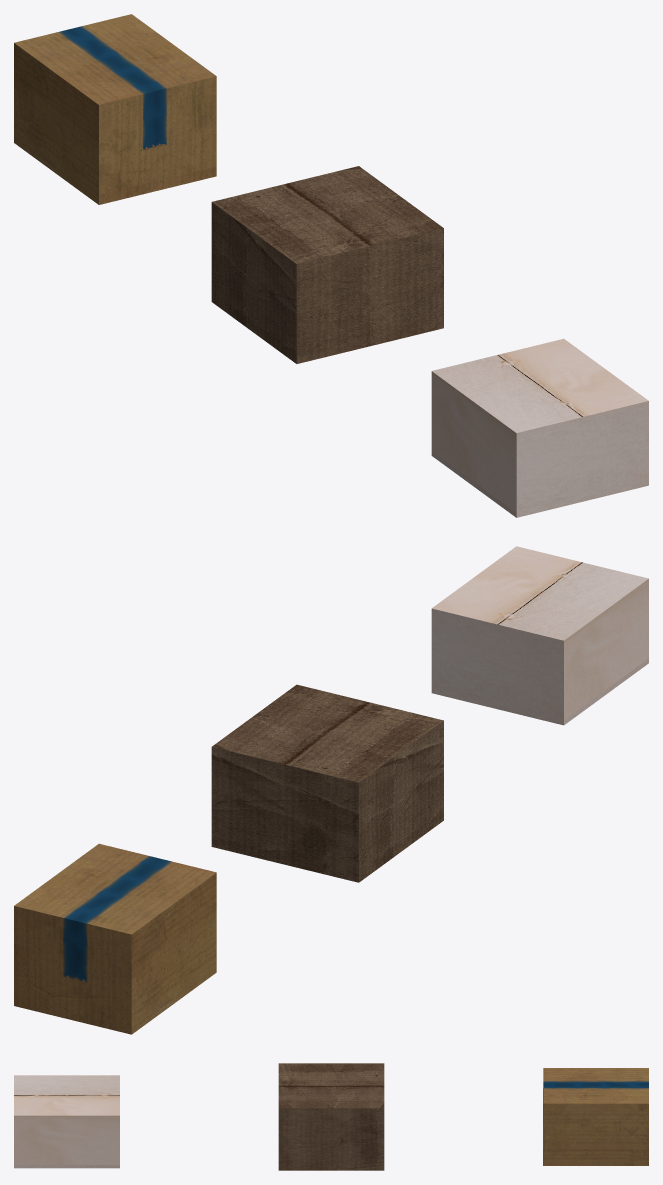
Rendered from boxs.fbx.
3 renders of one model, top to bottom at view 1: azimuth 30°, elevation 25°; view 2: azimuth 150°, elevation 25°; view 3: azimuth 270°, elevation 25°, orthographic. The views are drawn at different scales.
Parts seen in each view (by area): view 1: Куб.001, Куб, Куб.002; view 2: Куб.001, Куб, Куб.002; view 3: Куб.001, Куб, Куб.002.
Boxes of the visible parts, bbox=[...] form: Куб.001: bbox=[211, 166, 443, 363]; Куб: bbox=[14, 14, 216, 204]; Куб.002: bbox=[431, 338, 648, 517]; Куб.001: bbox=[211, 684, 443, 882]; Куб: bbox=[14, 843, 216, 1034]; Куб.002: bbox=[431, 546, 648, 725]; Куб.001: bbox=[278, 1063, 384, 1170]; Куб: bbox=[543, 1068, 648, 1165]; Куб.002: bbox=[14, 1075, 119, 1168].
Bounding box in the file's own units: 20 × 13 × 120.
3 materials, 3 textured.
